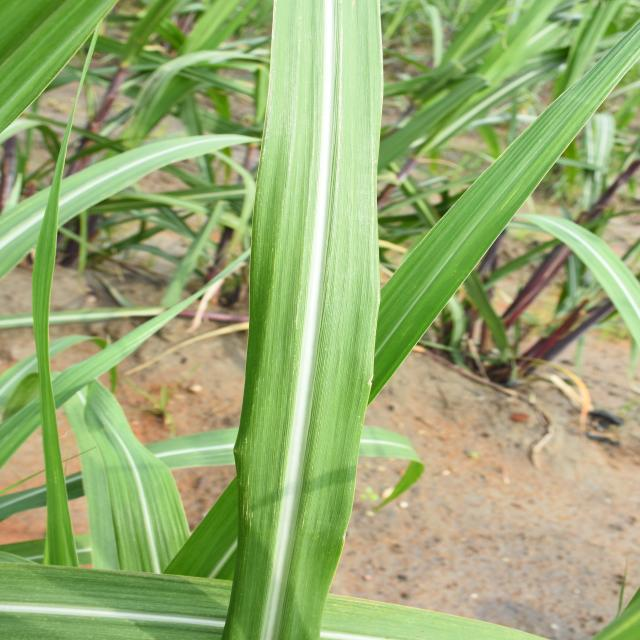Sugarcane: (216, 0, 382, 639)
